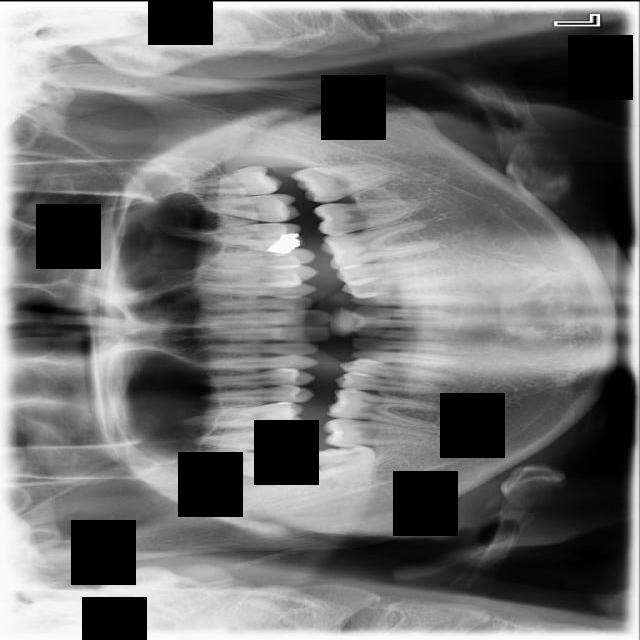3M ESPE Implant: (169, 448, 286, 479)
52: (253, 221, 305, 254), (259, 398, 306, 431), (322, 417, 363, 446)
73: (568, 18, 578, 26)
BioHorizons Implant: (176, 190, 303, 231)
BioLife Implant: (165, 164, 284, 197)
Biomet 3i Implant: (288, 158, 401, 206)
Blue Sky Bio Implant: (312, 198, 422, 236)
Caries: (190, 427, 305, 456)
Implant: (322, 417, 434, 449)
Keystone Dental Implant: (307, 438, 382, 494)
